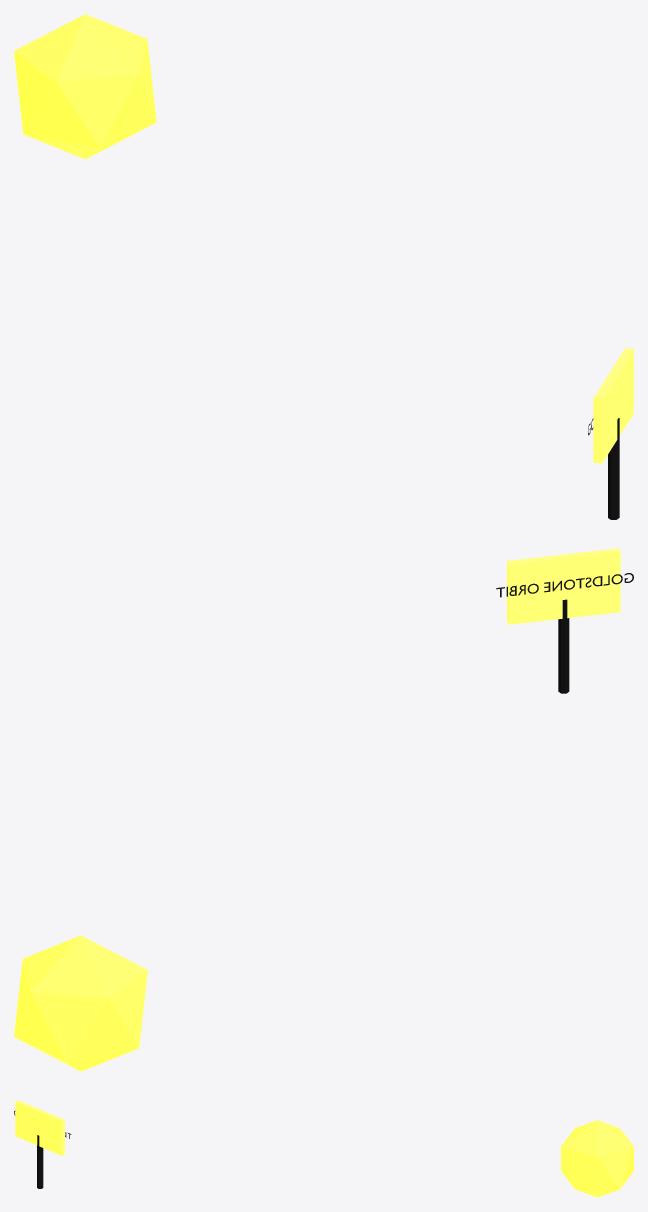
Rendered from goldstone_boson_hazard.glb.
The picture shows the model from 3 angles, top to bottom: view 1: azimuth 30°, elevation 25°; view 2: azimuth 150°, elevation 25°; view 3: azimuth 270°, elevation 25°; orthographic projection. The views are drawn at different scales.
Parts seen in each view (by area): view 1: MESHY_PROXY_goldstone_boson_hazard, MESHY_PROXY_sign_goldstone_orbit, MESHY_PROXY_sign_goldstone_orbit_pole; view 2: MESHY_PROXY_goldstone_boson_hazard, MESHY_PROXY_sign_goldstone_orbit, MESHY_PROXY_sign_goldstone_orbit_pole; view 3: MESHY_PROXY_goldstone_boson_hazard, MESHY_PROXY_sign_goldstone_orbit, MESHY_PROXY_sign_goldstone_orbit_pole.
Boxes of the visible parts, x1,y1,x2,y2 form: MESHY_PROXY_goldstone_boson_hazard: (14,14,156,159); MESHY_PROXY_sign_goldstone_orbit: (593,348,633,463); MESHY_PROXY_sign_goldstone_orbit_pole: (608,418,619,519); MESHY_PROXY_goldstone_boson_hazard: (14,935,147,1071); MESHY_PROXY_sign_goldstone_orbit: (507,548,620,624); MESHY_PROXY_sign_goldstone_orbit_pole: (558,599,569,693); MESHY_PROXY_goldstone_boson_hazard: (561,1120,633,1197); MESHY_PROXY_sign_goldstone_orbit: (15,1100,64,1155); MESHY_PROXY_sign_goldstone_orbit_pole: (37,1135,43,1188).
Size of what is drawn, in the model's own units: 1.11 by 1.42 by 8.97.
